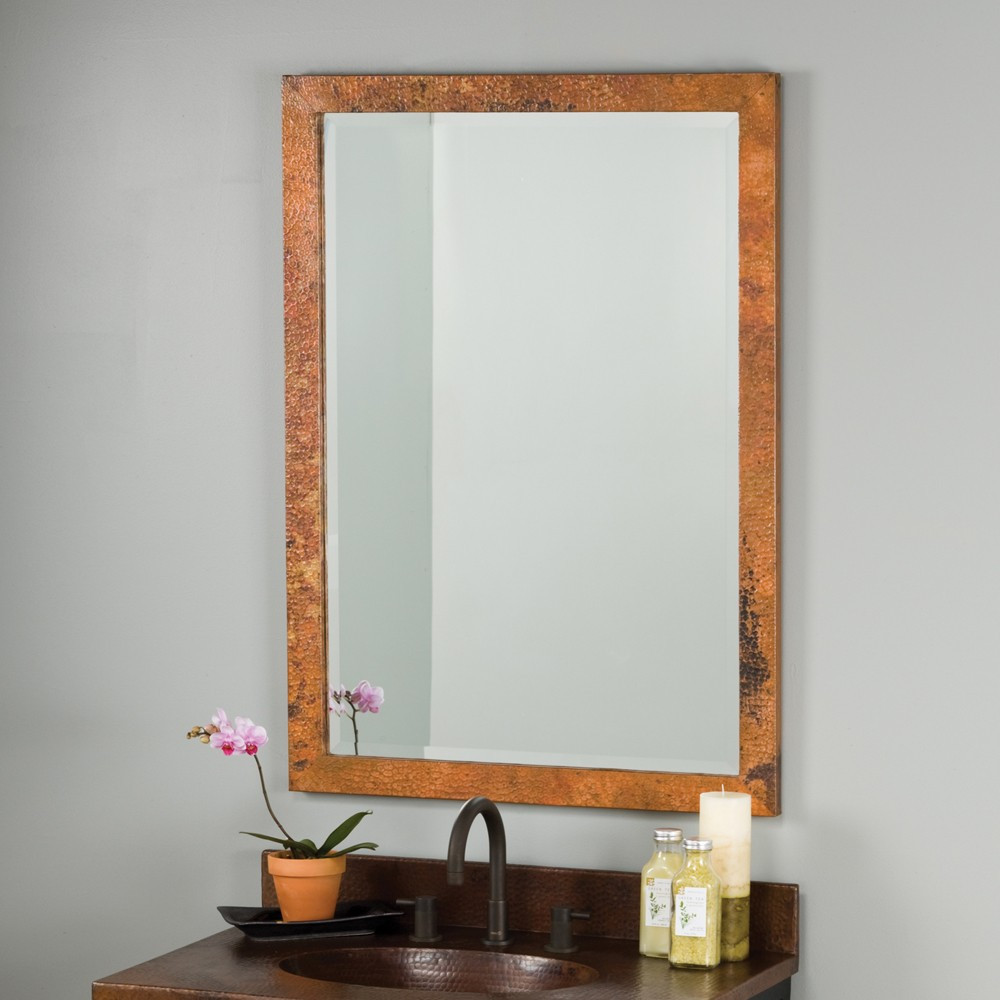Nonrec_Glass: (247, 48, 804, 822)
